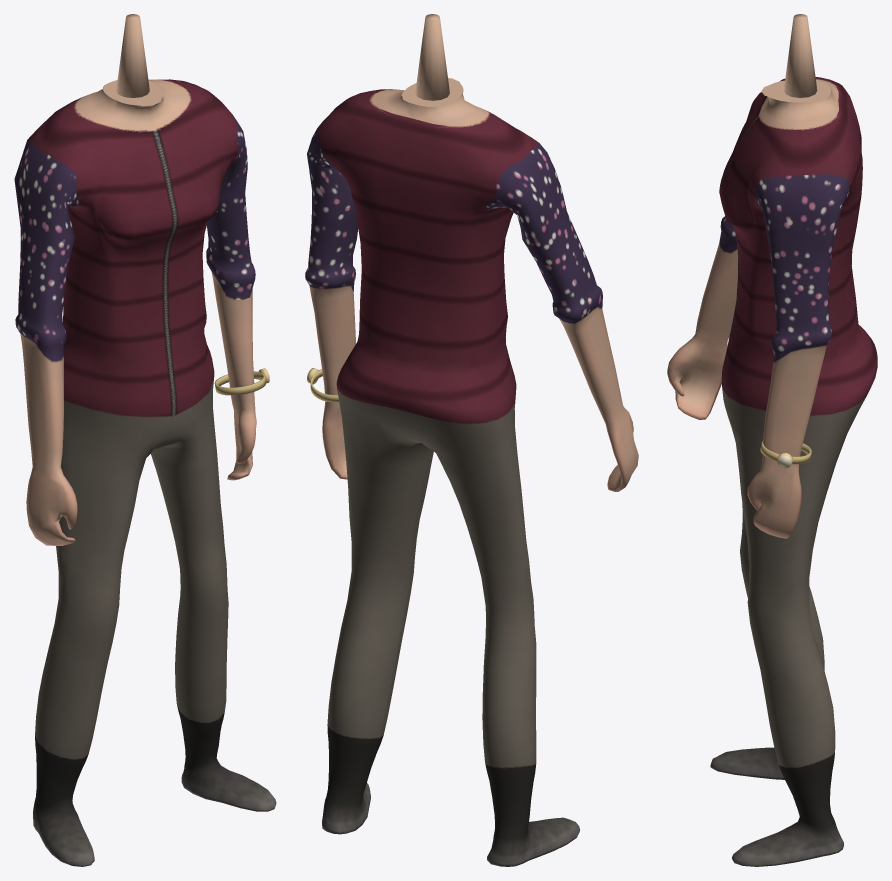
File: PH_NPC__Ajumma_Body.fbx
3 renders of one model, left to right at view 1: azimuth 30°, elevation 25°; view 2: azimuth 150°, elevation 25°; view 3: azimuth 270°, elevation 25°, orthographic. The views are drawn at different scales.
Parts seen in each view (by area): view 1: PH_NPC__Ajumma_Body; view 2: PH_NPC__Ajumma_Body; view 3: PH_NPC__Ajumma_Body.
Part boxes in pixels (x1,y1,x2,y2): PH_NPC__Ajumma_Body: (14, 14, 276, 866); PH_NPC__Ajumma_Body: (305, 14, 638, 866); PH_NPC__Ajumma_Body: (667, 14, 877, 866).
Size of the model in its own units: 0.5667 by 1.58 by 0.3792.
